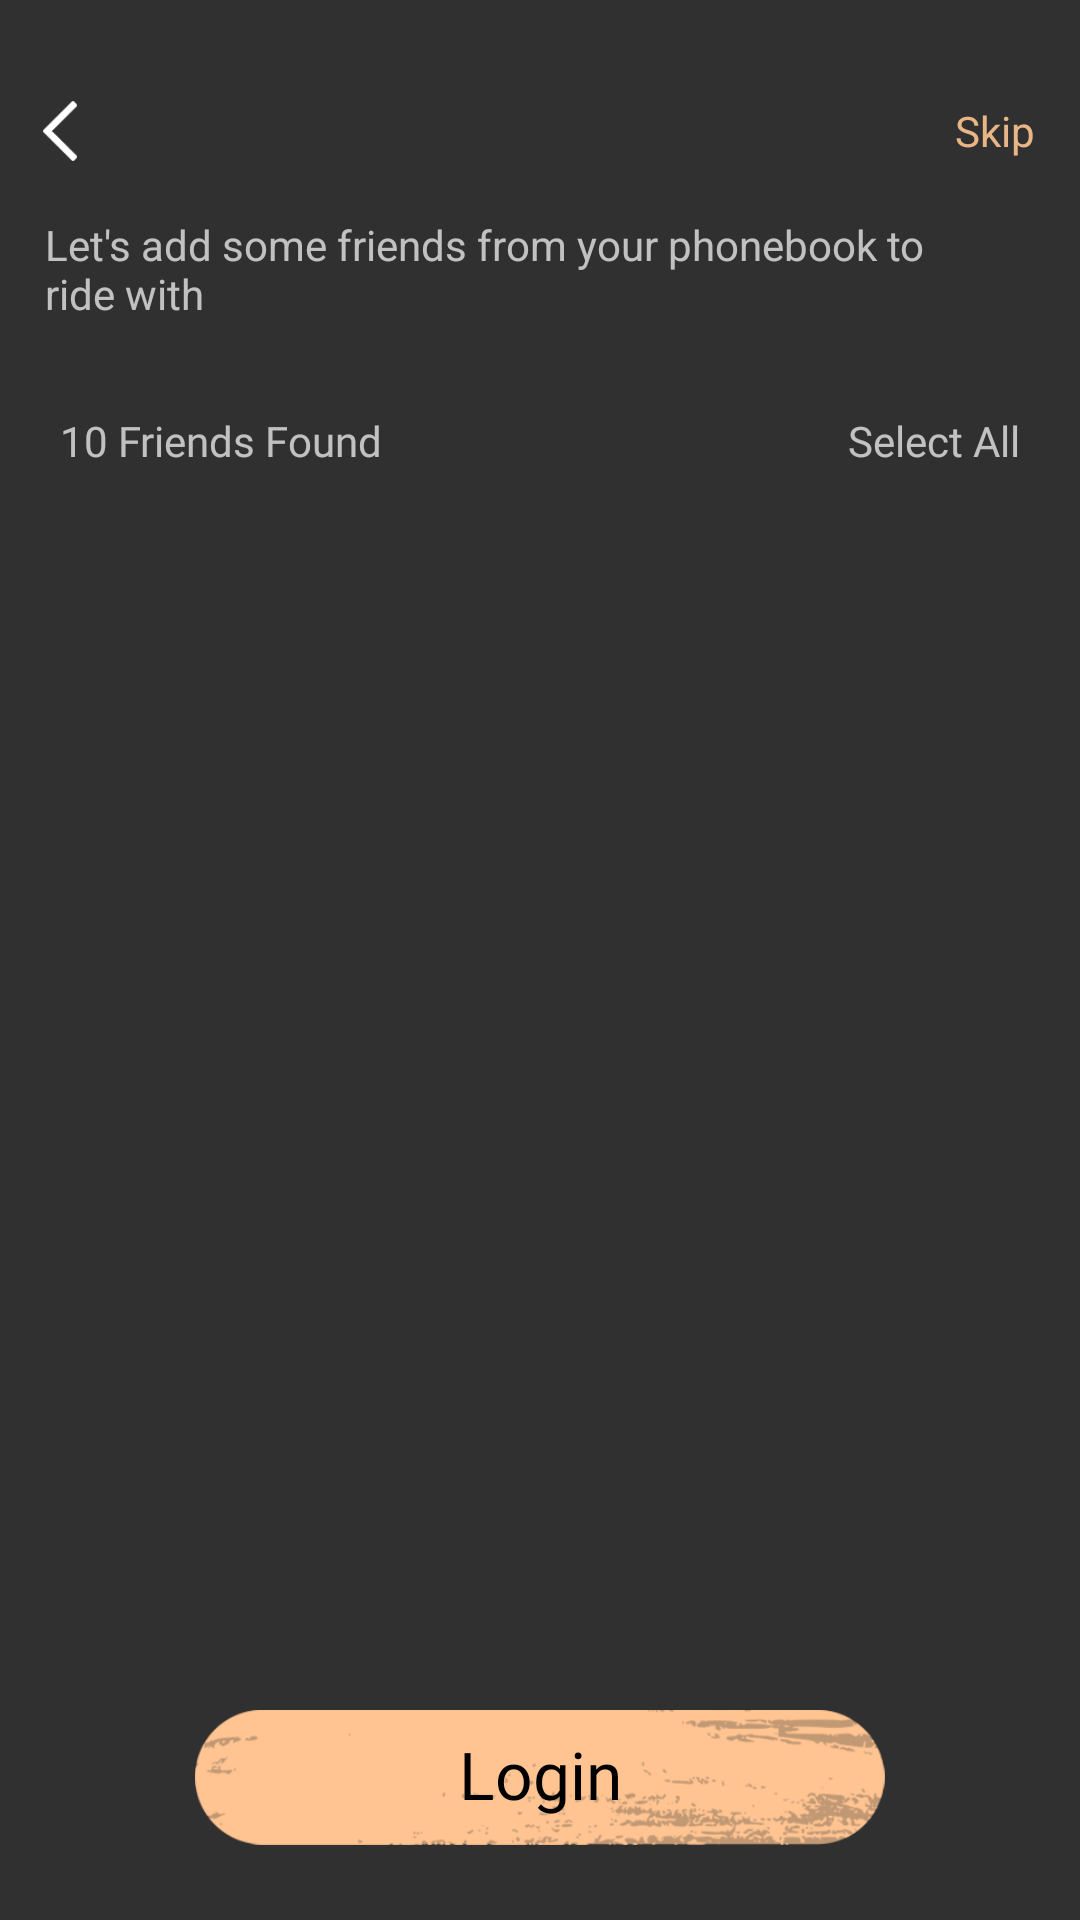

Icon bounding boxes for this 1080px x 1920px phone screenshot, format (x1, y1, x2, y2):
back arrow: (43, 101, 77, 161)
